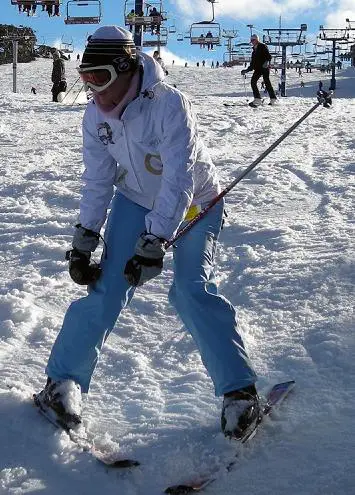skier: (31, 24, 335, 495), (239, 34, 283, 110)
